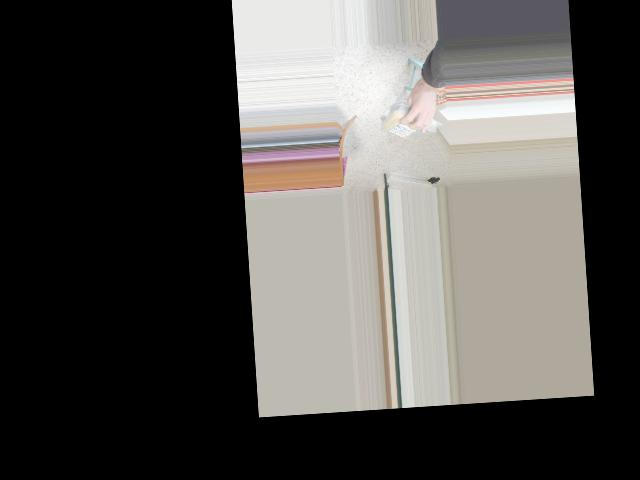cheese: (380, 106, 442, 140)
